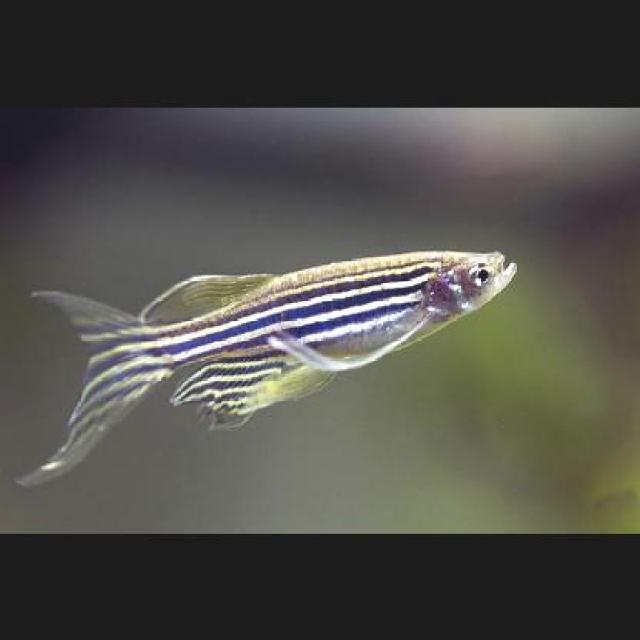ZebraFish: (159, 247, 515, 421)
